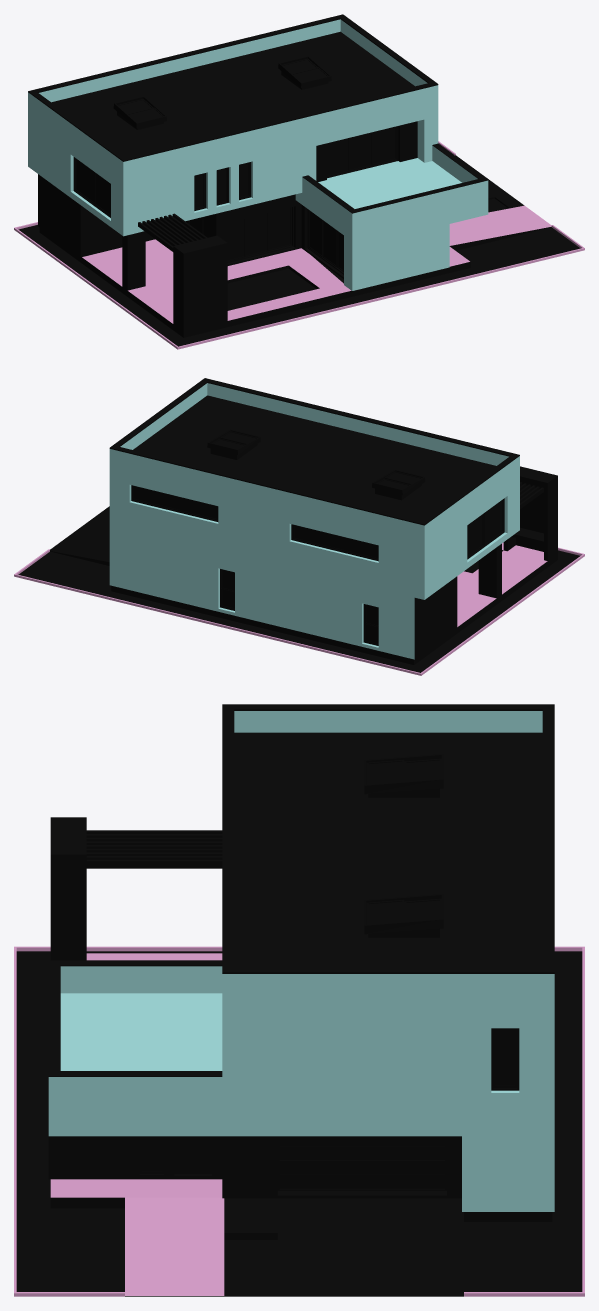
The model's file is Modern House_3_obj.obj.
The picture shows the model from 3 angles, top to bottom: view 1: azimuth 30°, elevation 25°; view 2: azimuth 150°, elevation 25°; view 3: azimuth 270°, elevation 25°; orthographic projection. The views are drawn at different scales.
Parts seen in each view (by area): view 1: MH03_OBJ01, MH03_OBJ03, MH03_OBJ02, MH03_OBJ04; view 2: MH03_OBJ01, MH03_OBJ03, MH03_OBJ02, MH03_OBJ04; view 3: MH03_OBJ01, MH03_OBJ03, MH03_OBJ02, MH03_OBJ04.
Part boxes in pixels (x1=…): MH03_OBJ01: x1=28, y1=14, x2=488, y2=331; MH03_OBJ03: x1=14, y1=141, x2=584, y2=349; MH03_OBJ02: x1=73, y1=126, x2=398, y2=274; MH03_OBJ04: x1=113, y1=56, x2=331, y2=129; MH03_OBJ01: x1=109, y1=378, x2=557, y2=664; MH03_OBJ03: x1=14, y1=506, x2=584, y2=675; MH03_OBJ02: x1=131, y1=485, x2=504, y2=645; MH03_OBJ04: x1=207, y1=429, x2=425, y2=500; MH03_OBJ01: x1=48, y1=704, x2=554, y2=1221; MH03_OBJ03: x1=14, y1=946, x2=584, y2=1296; MH03_OBJ02: x1=137, y1=1028, x2=519, y2=1190; MH03_OBJ04: x1=364, y1=754, x2=443, y2=937.
Size of the model in its own units: 825 by 278 by 574.
